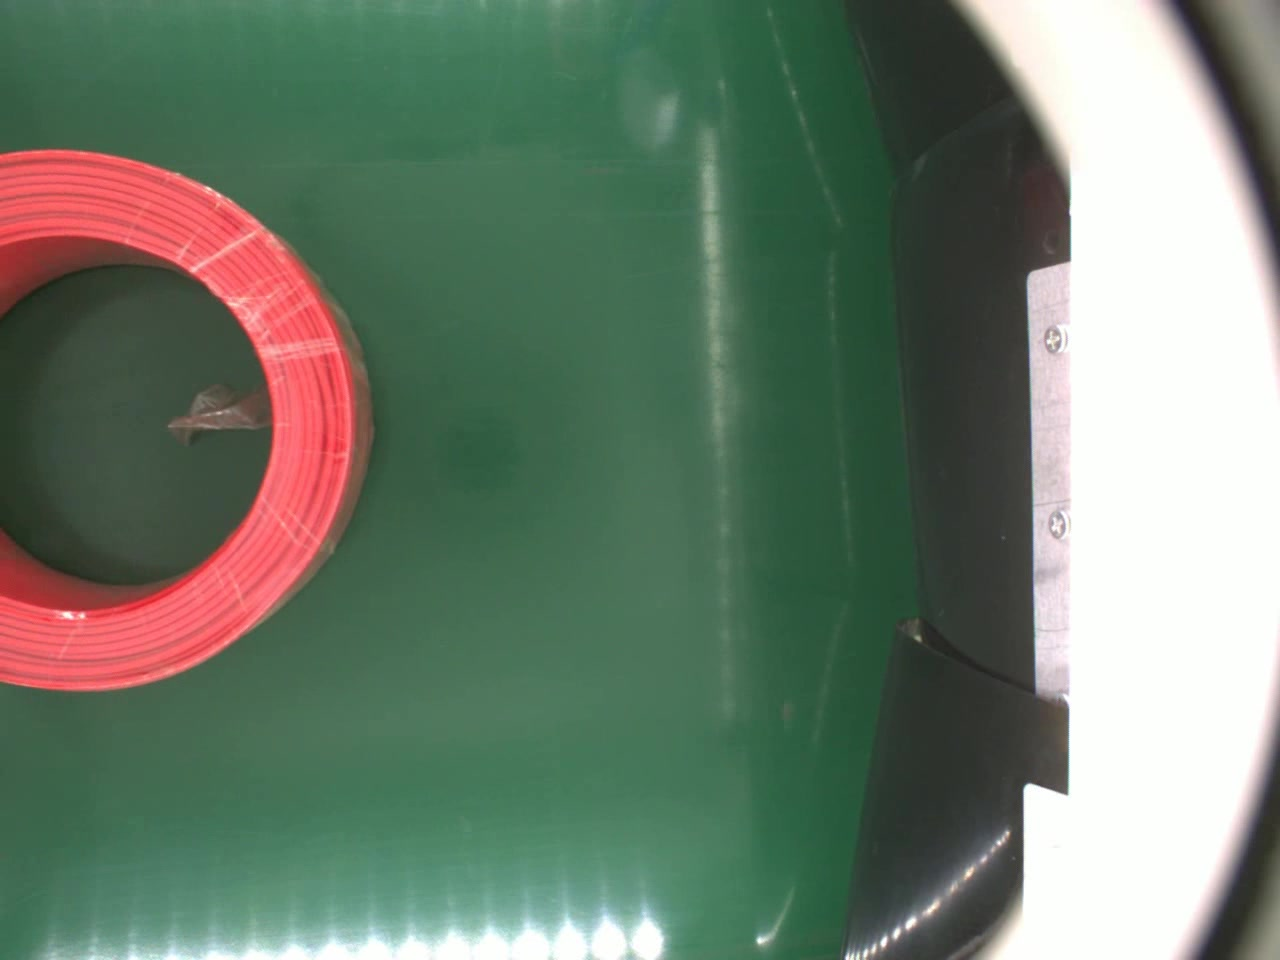red: (0, 147, 375, 684)
